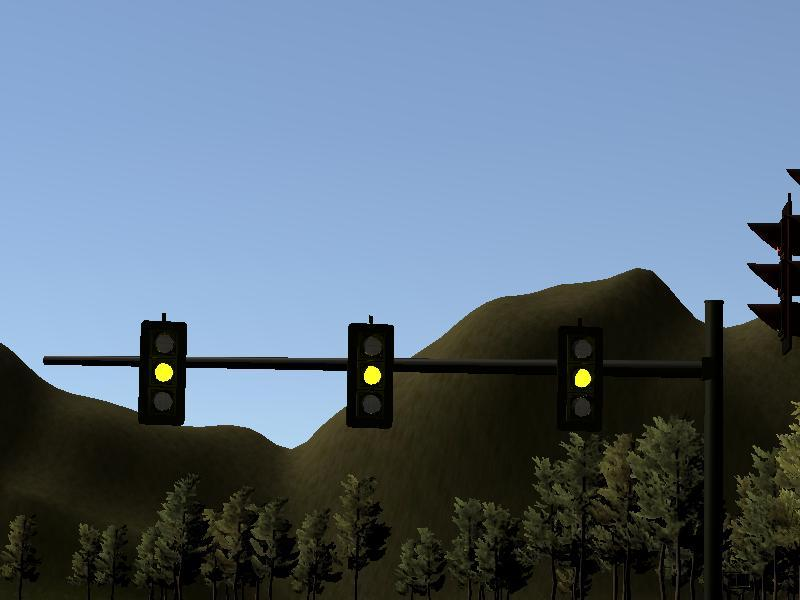Yellow: (556, 326, 603, 432), (346, 322, 393, 428), (139, 321, 186, 427)
